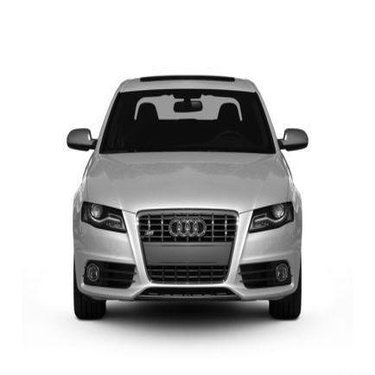car: (55, 65, 314, 329)
